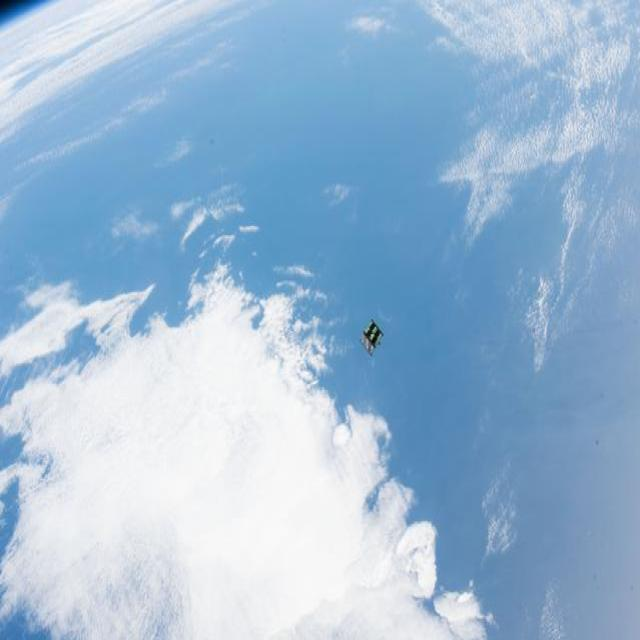medium_debris: (361, 320, 382, 354)
